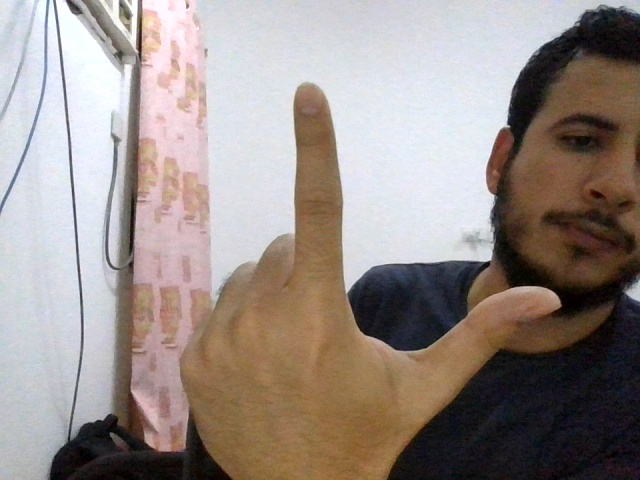Two: (179, 84, 561, 471)
